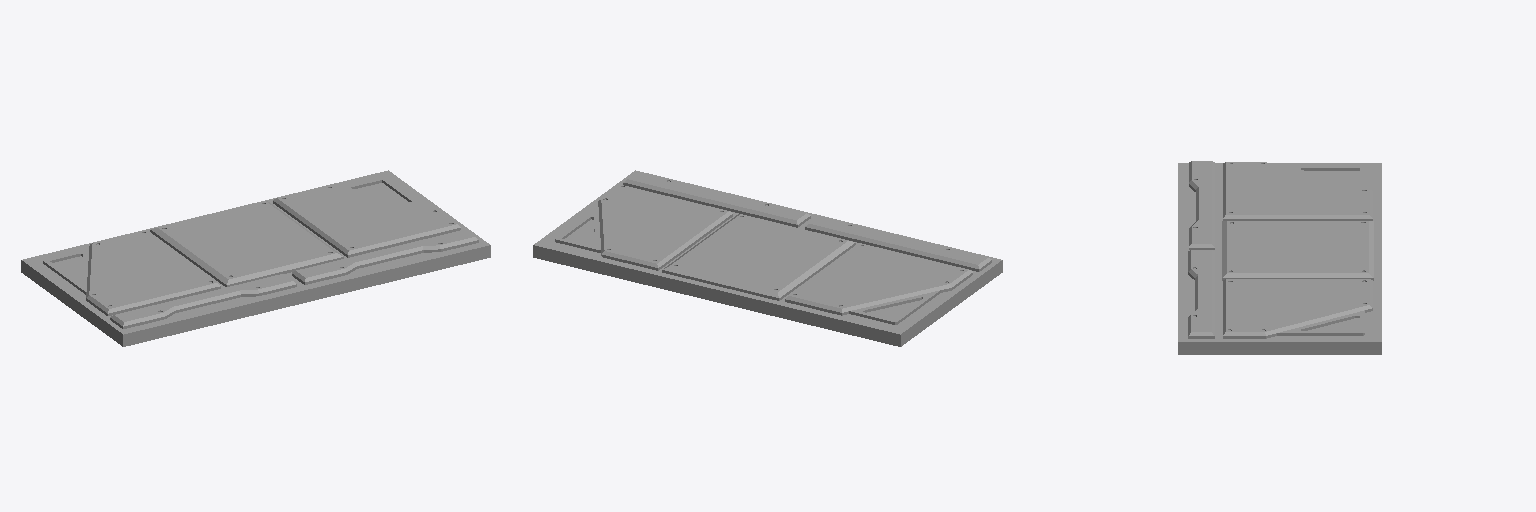
File: s1_bottom_panel_2.obj
3 renders of one model, left to right at view 1: azimuth 30°, elevation 25°; view 2: azimuth 150°, elevation 25°; view 3: azimuth 270°, elevation 25°, orthographic.
Parts seen in each view (by area): view 1: mesh_0; view 2: mesh_0; view 3: mesh_0.
Boxes of the visible parts, <box> form: mesh_0: <box>21,170,490,346</box>; mesh_0: <box>533,170,1002,346</box>; mesh_0: <box>1178,161,1381,354</box>.
Size of the model in its own units: 38.16 by 1.8 by 18.38.